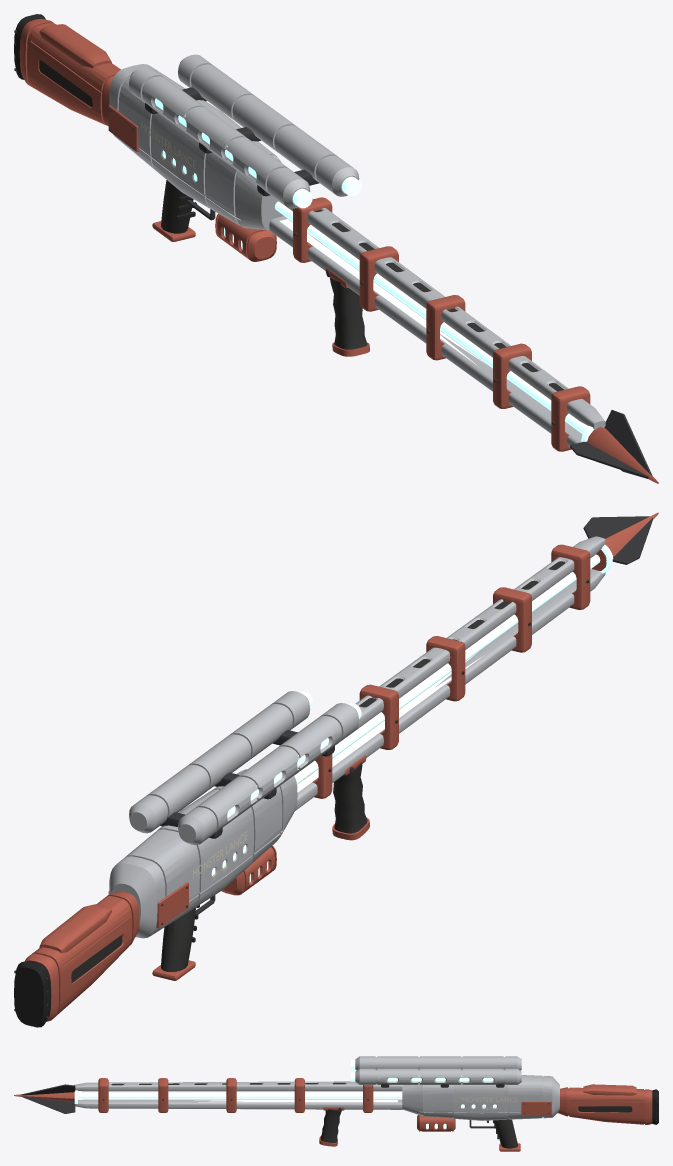
The model's file is monsterlance.glb.
The picture shows the model from 3 angles, top to bottom: view 1: azimuth 30°, elevation 25°; view 2: azimuth 150°, elevation 25°; view 3: azimuth 270°, elevation 25°; orthographic projection. The views are drawn at different scales.
Parts seen in each view (by area): view 1: Body; view 2: Body; view 3: Body, Body_marks.
Boxes of the visible parts, bbox=[...] form: Body: bbox=[14, 14, 658, 483]; Body: bbox=[14, 512, 658, 1027]; Body: bbox=[14, 1056, 658, 1151]; Body_marks: bbox=[462, 1097, 517, 1109].
Bounding box in the file's own units: 0.106 × 0.2212 × 1.51.
